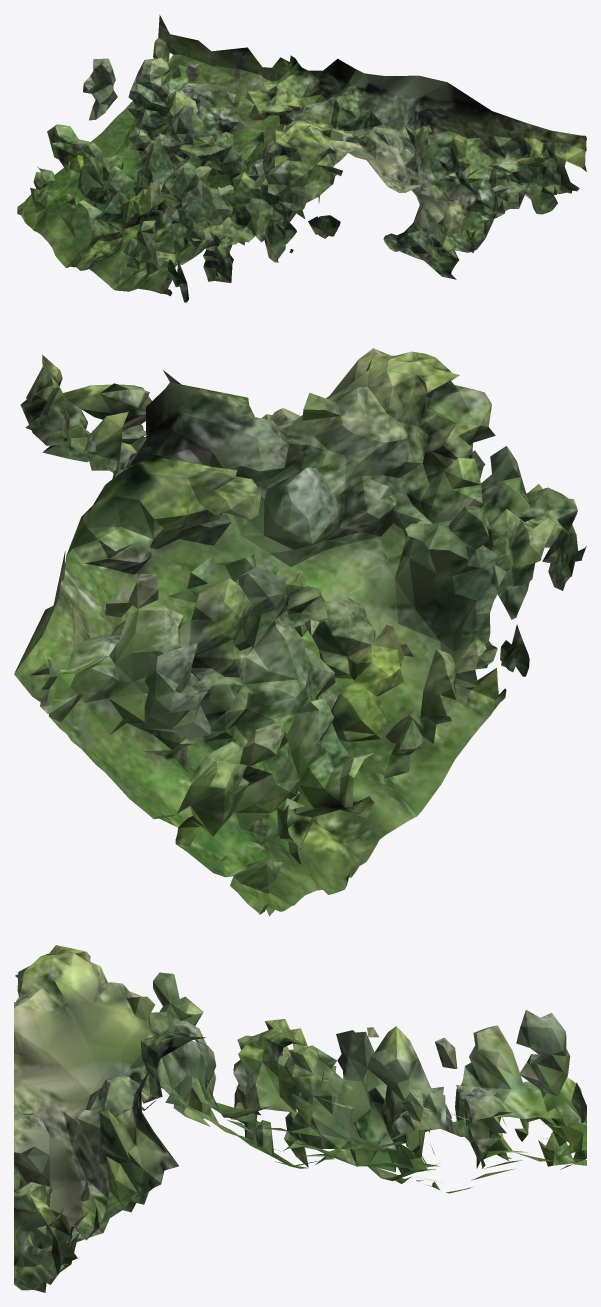
3 renders of one model, top to bottom at view 1: azimuth 30°, elevation 25°; view 2: azimuth 150°, elevation 25°; view 3: azimuth 270°, elevation 25°, orthographic. The views are drawn at different scales.
Bounding box in the file's own units: 104 × 60.69 × 104.
5 materials, 5 textured.
